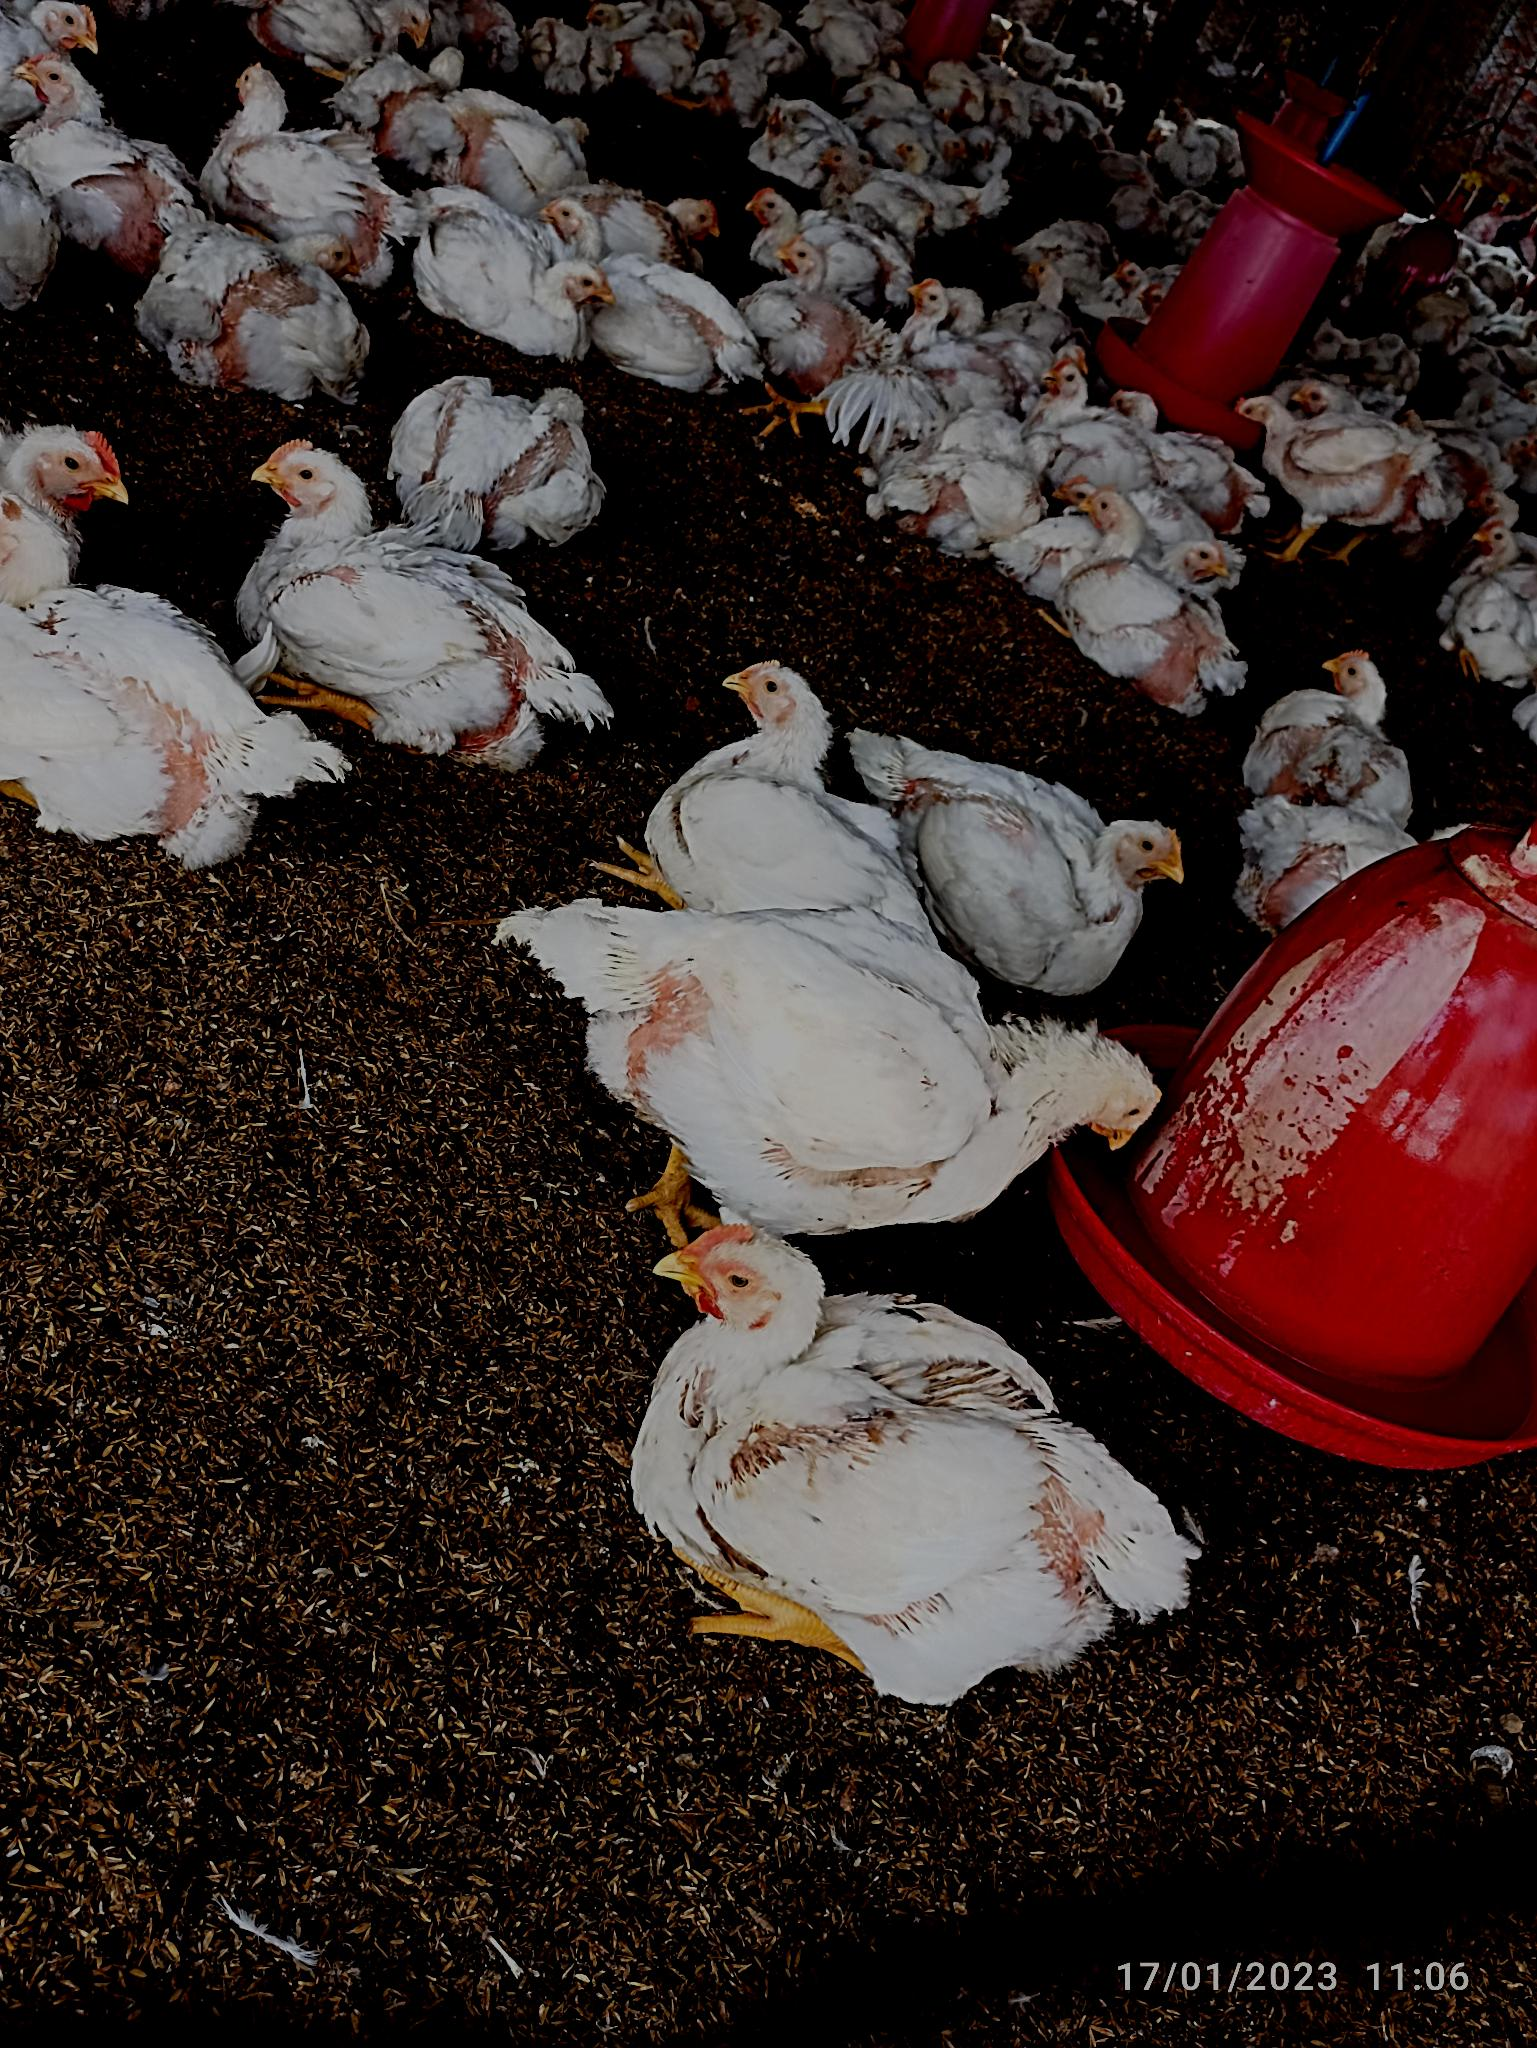Pollos: (652, 1230, 1187, 1645), (525, 891, 1153, 1209), (2, 416, 249, 875), (244, 442, 575, 750), (875, 712, 1193, 968), (681, 654, 903, 925), (1230, 642, 1432, 917), (136, 192, 346, 389), (378, 382, 634, 542), (1242, 382, 1439, 541), (413, 208, 594, 358), (10, 48, 158, 231), (207, 61, 386, 205), (739, 242, 878, 421), (568, 255, 725, 408), (1096, 525, 1246, 667), (735, 189, 885, 276), (1037, 357, 1137, 483)
